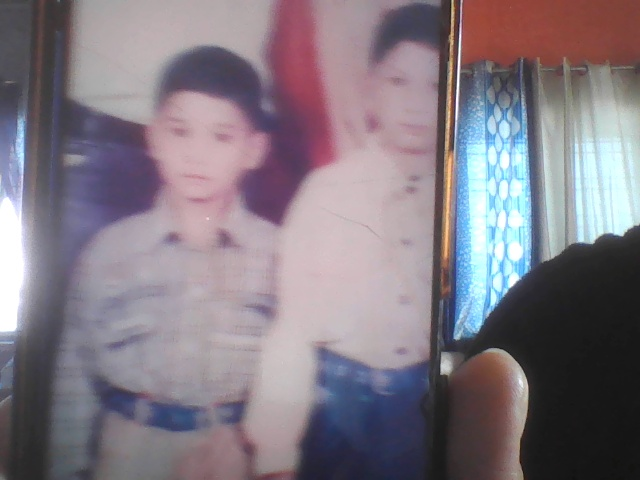fake: (144, 55, 264, 225)
